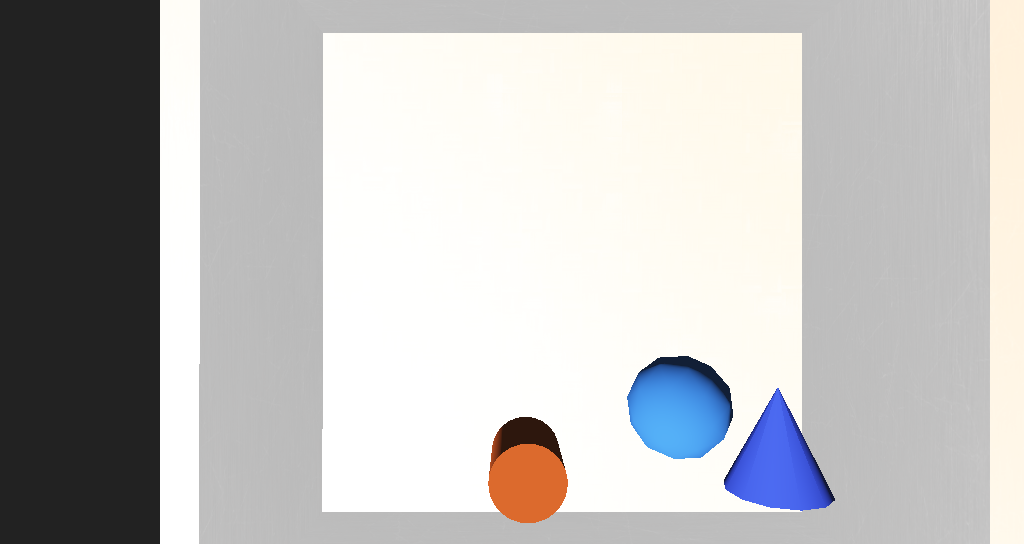cone: (461, 334, 509, 372)
cylinder: (603, 317, 677, 370)
sphere: (549, 301, 610, 348)
